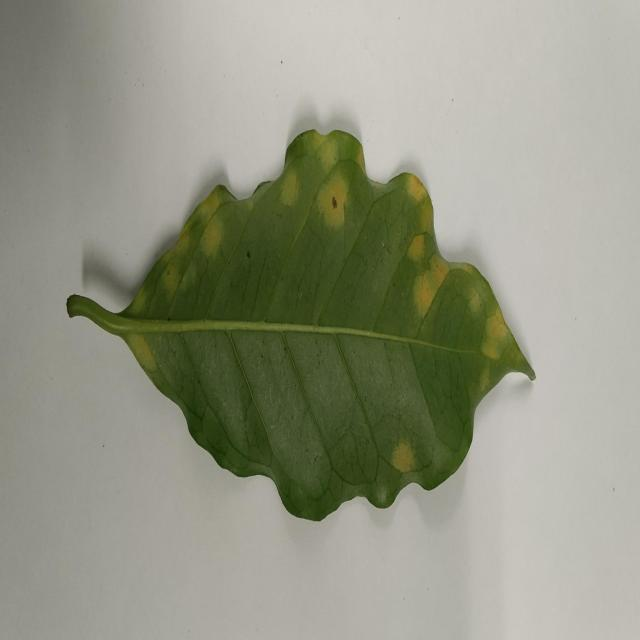Enfermedad-Roya: (65, 130, 536, 526)
